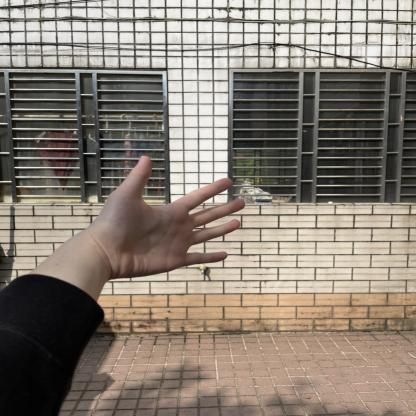bare_hand: (81, 149, 252, 285)
